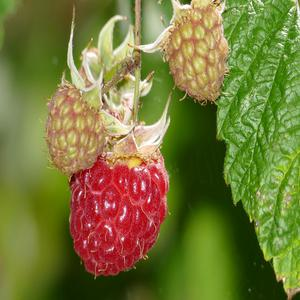raspb: (67, 148, 172, 284)
